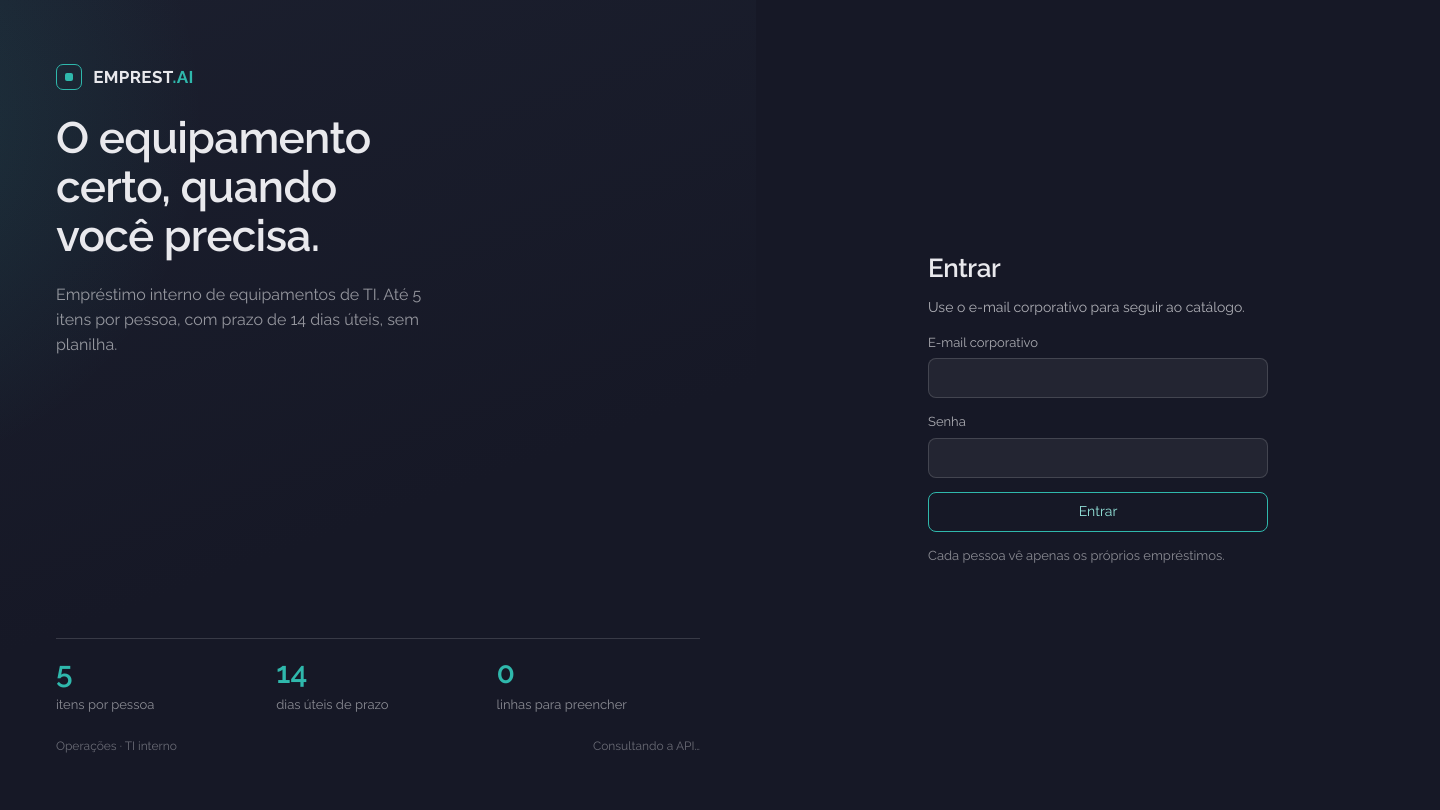
it: login › CA-02: falha que não é de credencial mostra a mensagem geral
Step 1. Type "ryan@exemplo.local" into the field labelled "E-mail corporativo" → (1098, 378), box [928,358,1268,398]
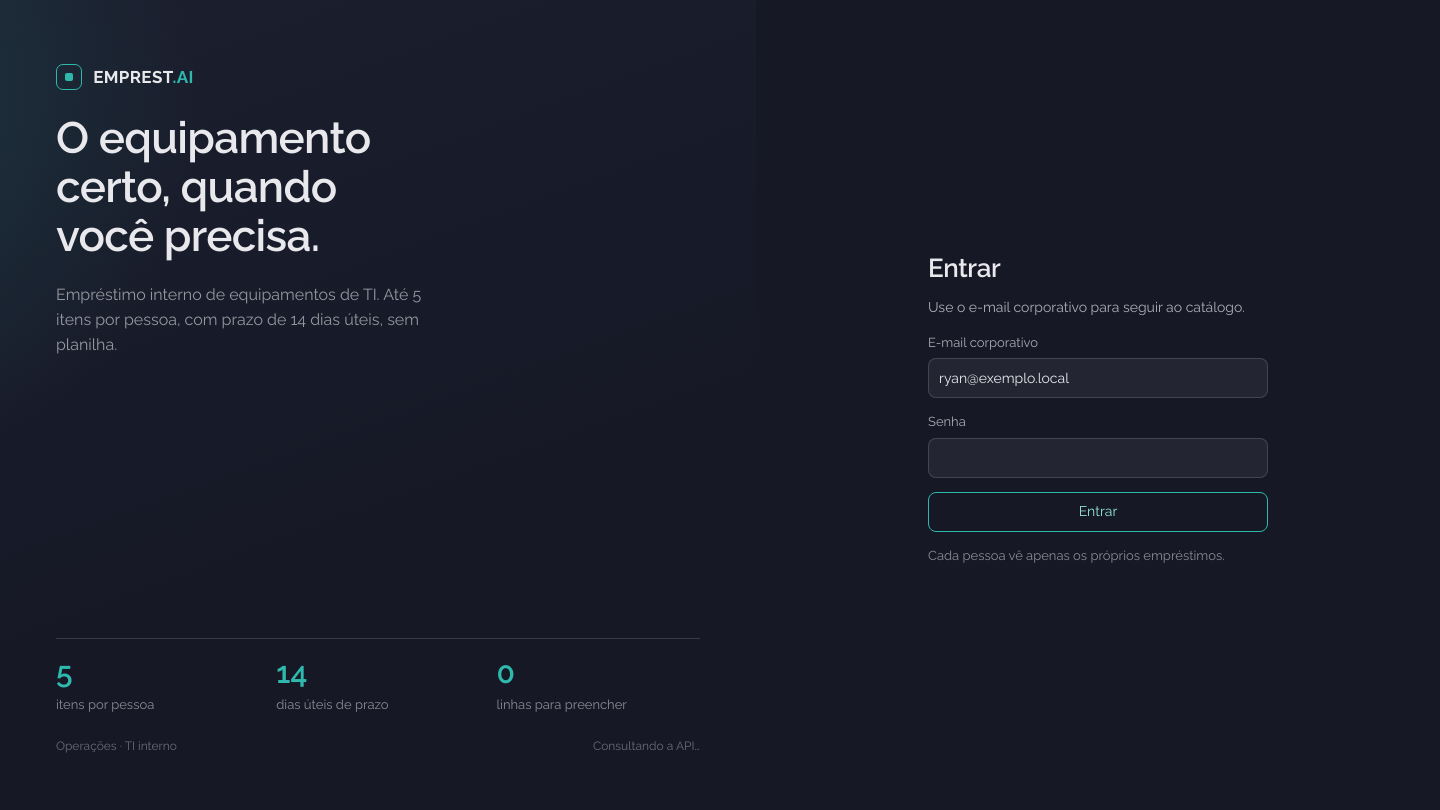
Step 2. Type "qualquer" into the password field labelled "Senha" → (1098, 458), box [928,438,1268,478]
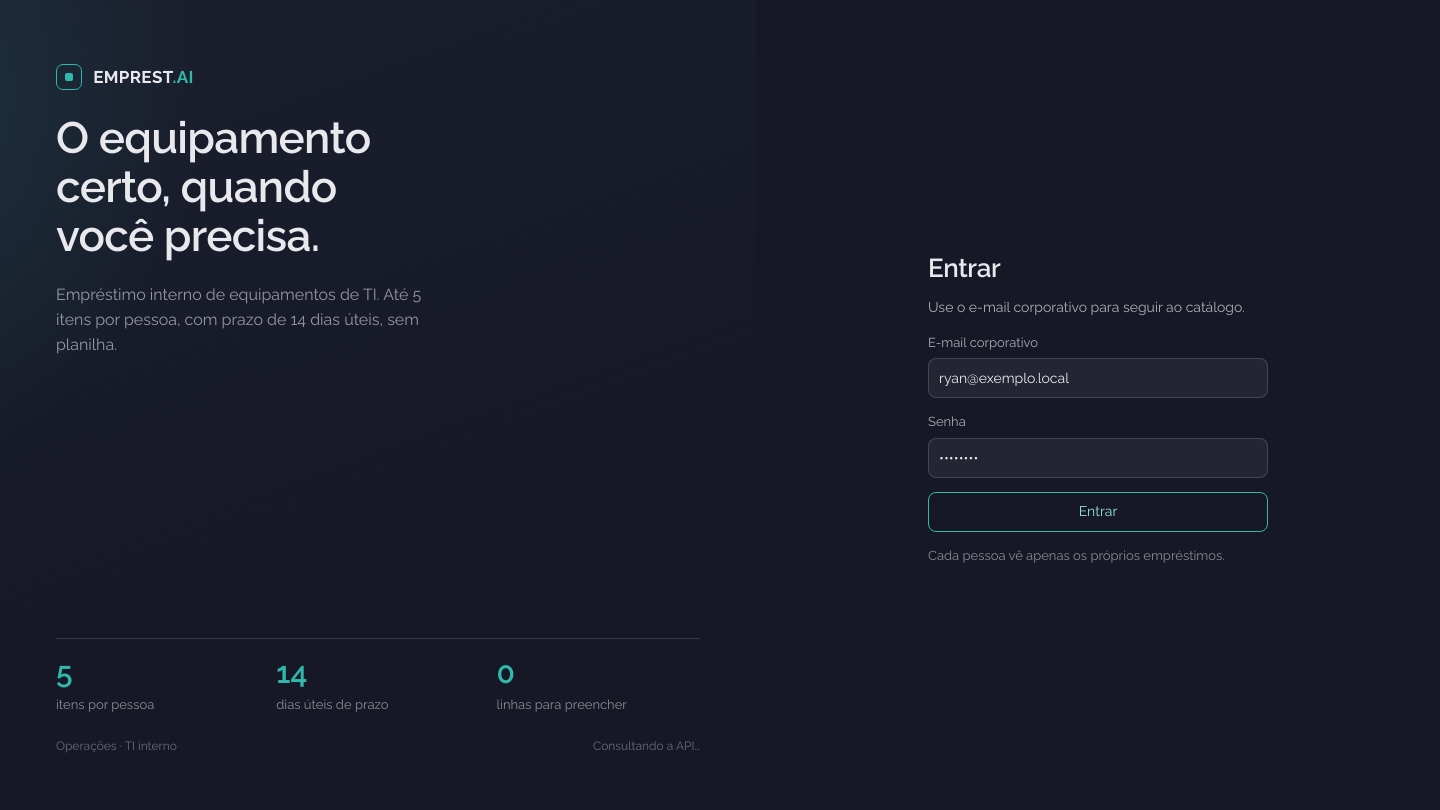
Step 3. Click the button "Entrar" → (1098, 512), box [928,492,1268,532]
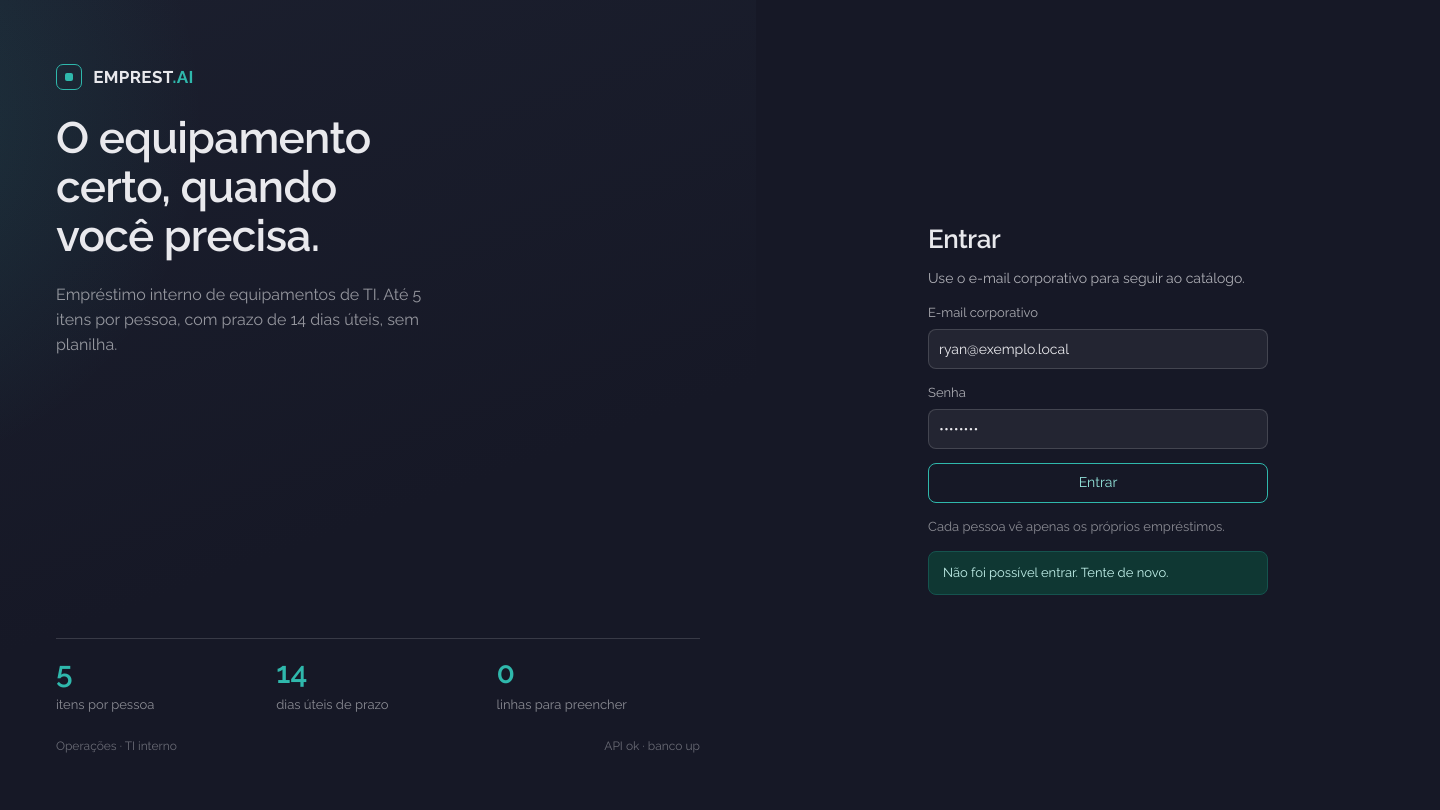
Expected: the message "Não foi possível entrar. Tente de novo." is shown, [928,551,1268,595]
